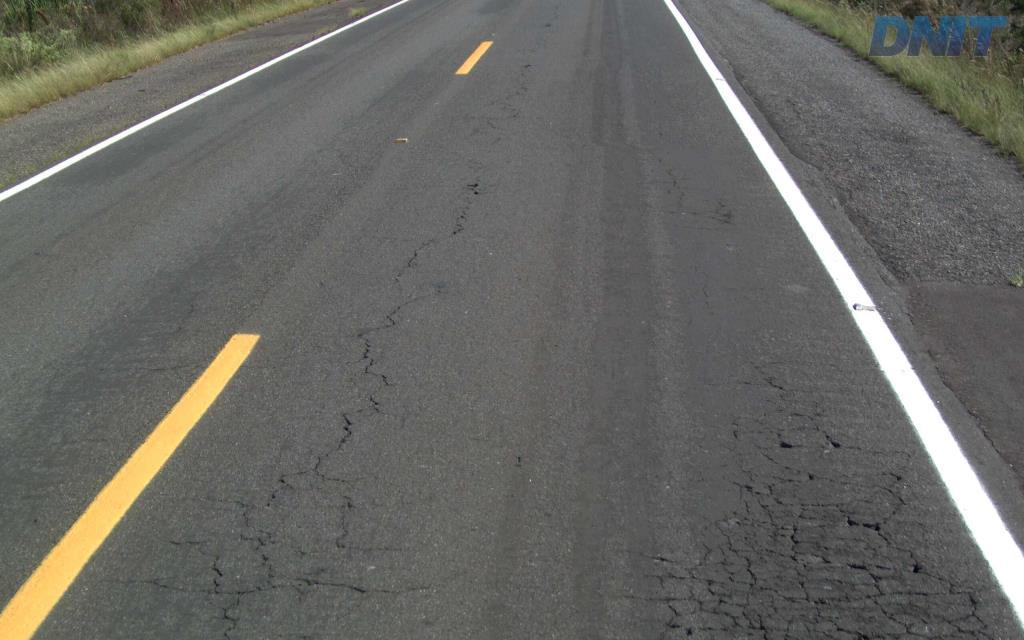crack: (716, 497, 987, 632), (658, 589, 748, 632), (756, 499, 789, 547)
